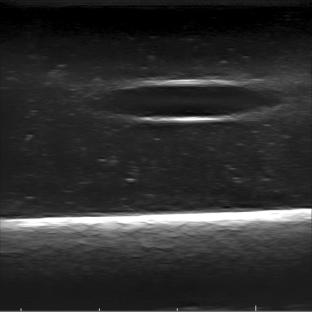vessel: (97, 78, 275, 125)
